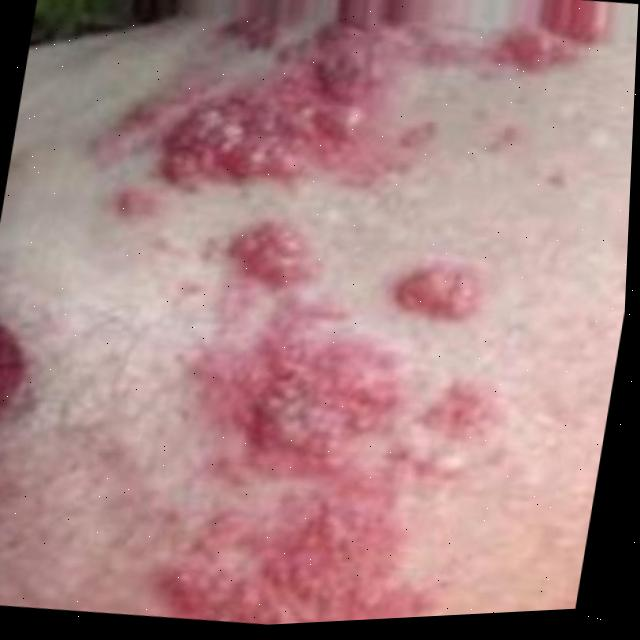Shingles: (156, 213, 522, 630), (131, 0, 548, 221)
